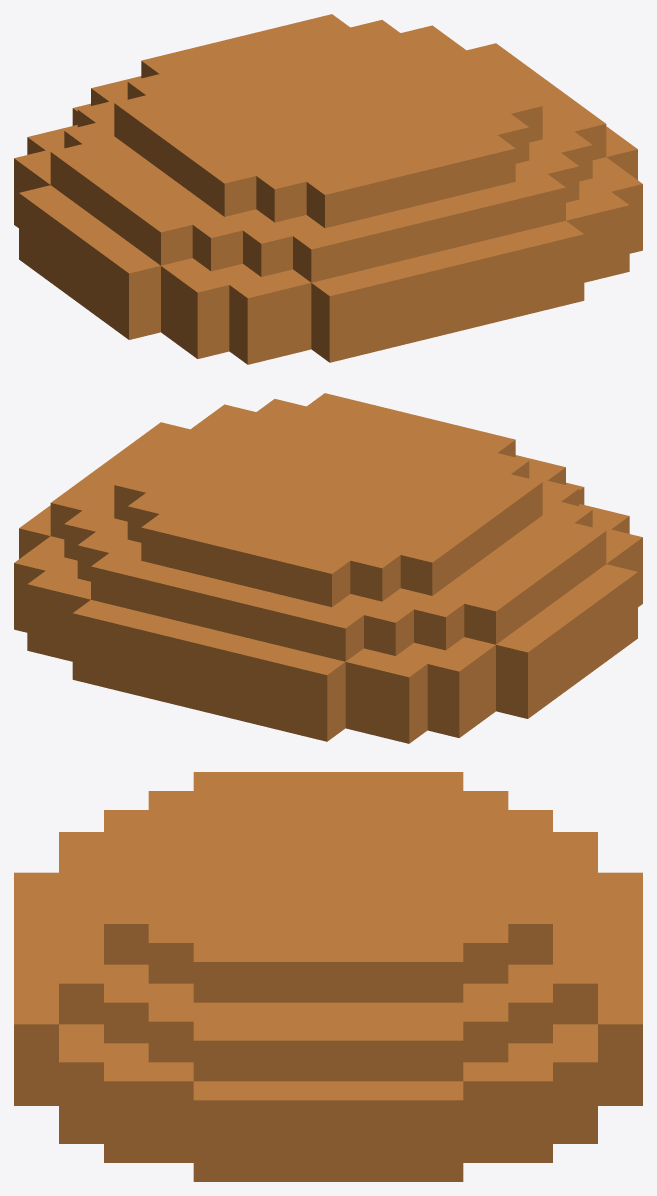
Rendered from Buns_Top.obj.
3 views of the same model, one above another, from view 1: azimuth 30°, elevation 25°; view 2: azimuth 150°, elevation 25°; view 3: azimuth 270°, elevation 25° (orthographic). The views are drawn at different scales.
Size of the model in its own units: 1.6 by 0.4 by 1.4.
1 material, 1 textured.
